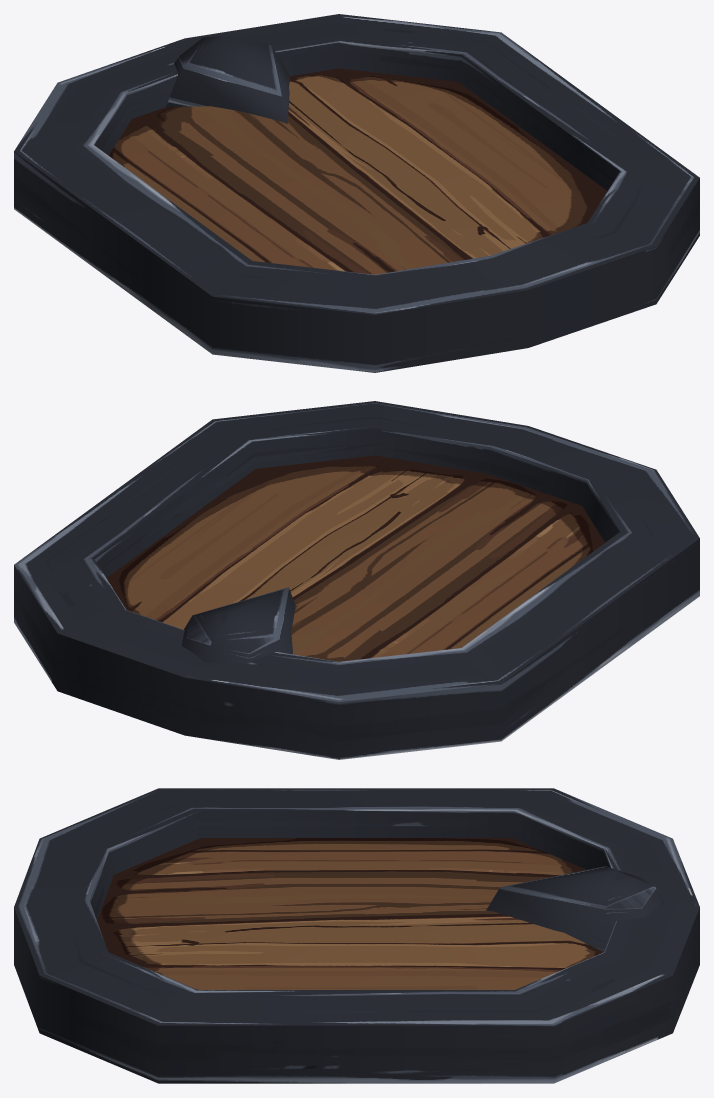
File: SM_PROP_weapon_shield_dungeon_03.fbx
3 renders of one model, top to bottom at view 1: azimuth 30°, elevation 25°; view 2: azimuth 150°, elevation 25°; view 3: azimuth 270°, elevation 25°, orthographic.
Visible parts, largest first — view 1: SM_PROP_weapon_shield_dungeon_03; view 2: SM_PROP_weapon_shield_dungeon_03; view 3: SM_PROP_weapon_shield_dungeon_03.
Part boxes in pixels (bbox=[...]): SM_PROP_weapon_shield_dungeon_03: bbox=[14, 14, 699, 372]; SM_PROP_weapon_shield_dungeon_03: bbox=[14, 401, 699, 759]; SM_PROP_weapon_shield_dungeon_03: bbox=[14, 788, 699, 1083].
Bounding box in the file's own units: 57.52 × 11.11 × 70.28.
